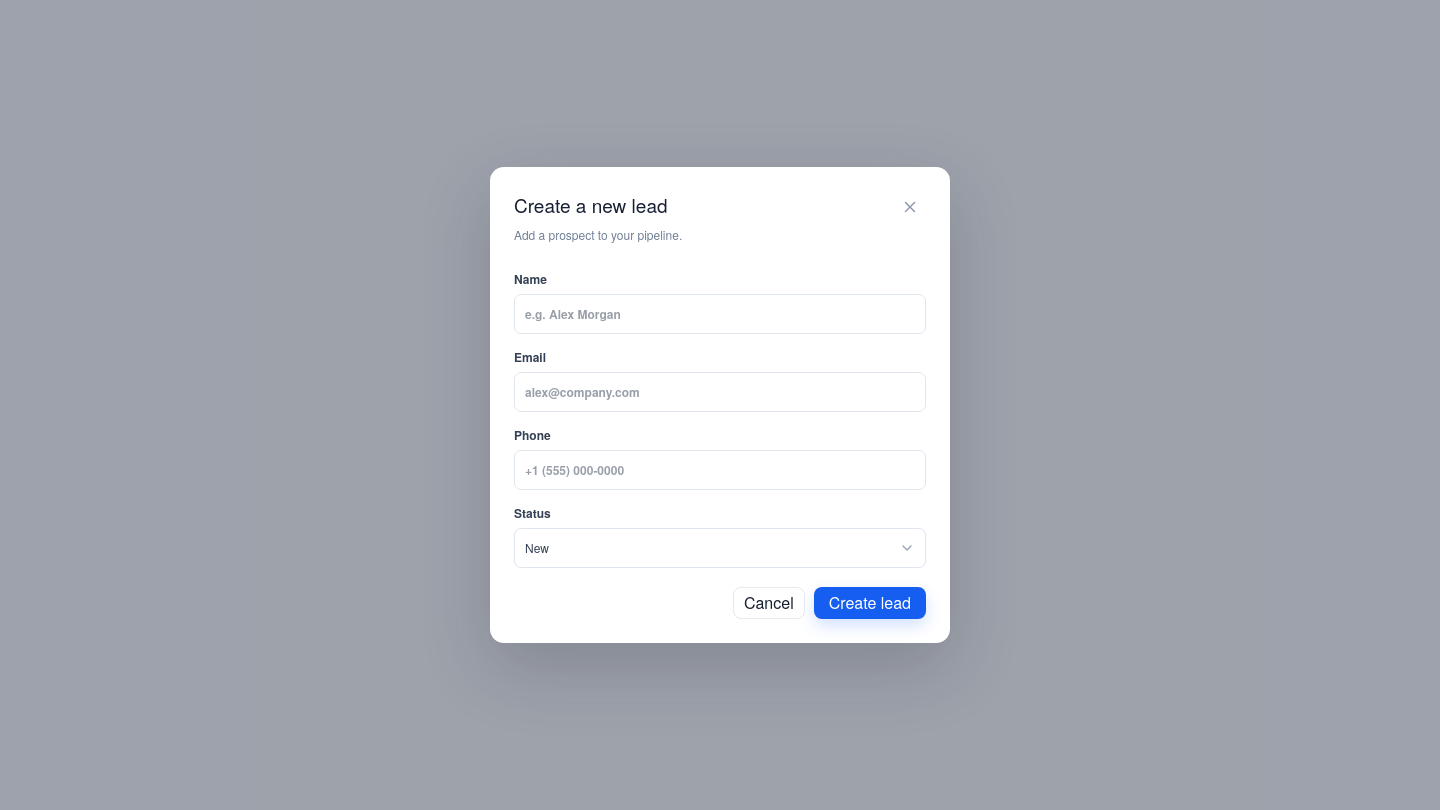
LeadForm › rejects a phone number with too few digits
Type "555010" into the field with placeholder "+1 (555) 000-0000" at (720, 470), box [514,450,926,490]
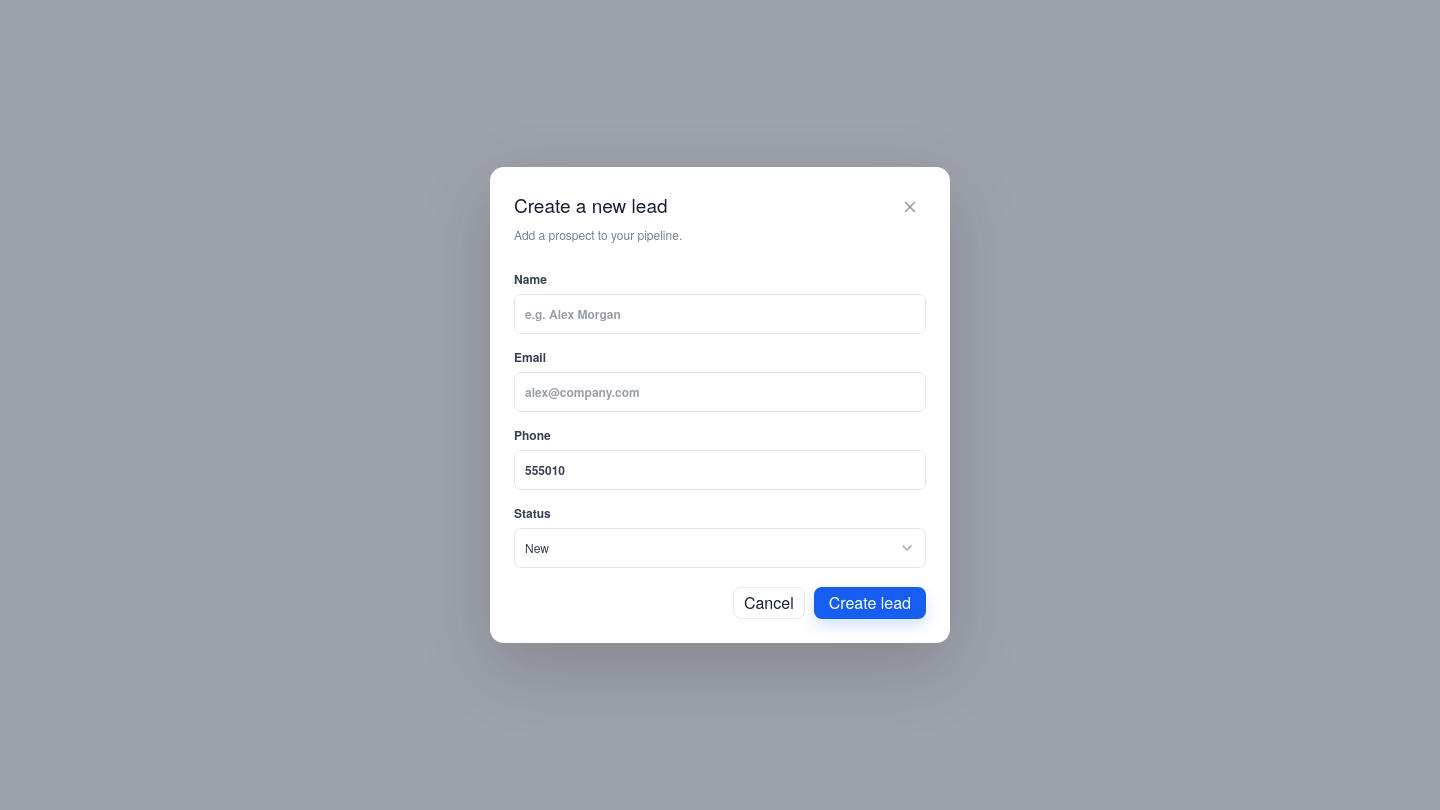
Click the button "Create lead" at (870, 603), box [814,587,926,619]
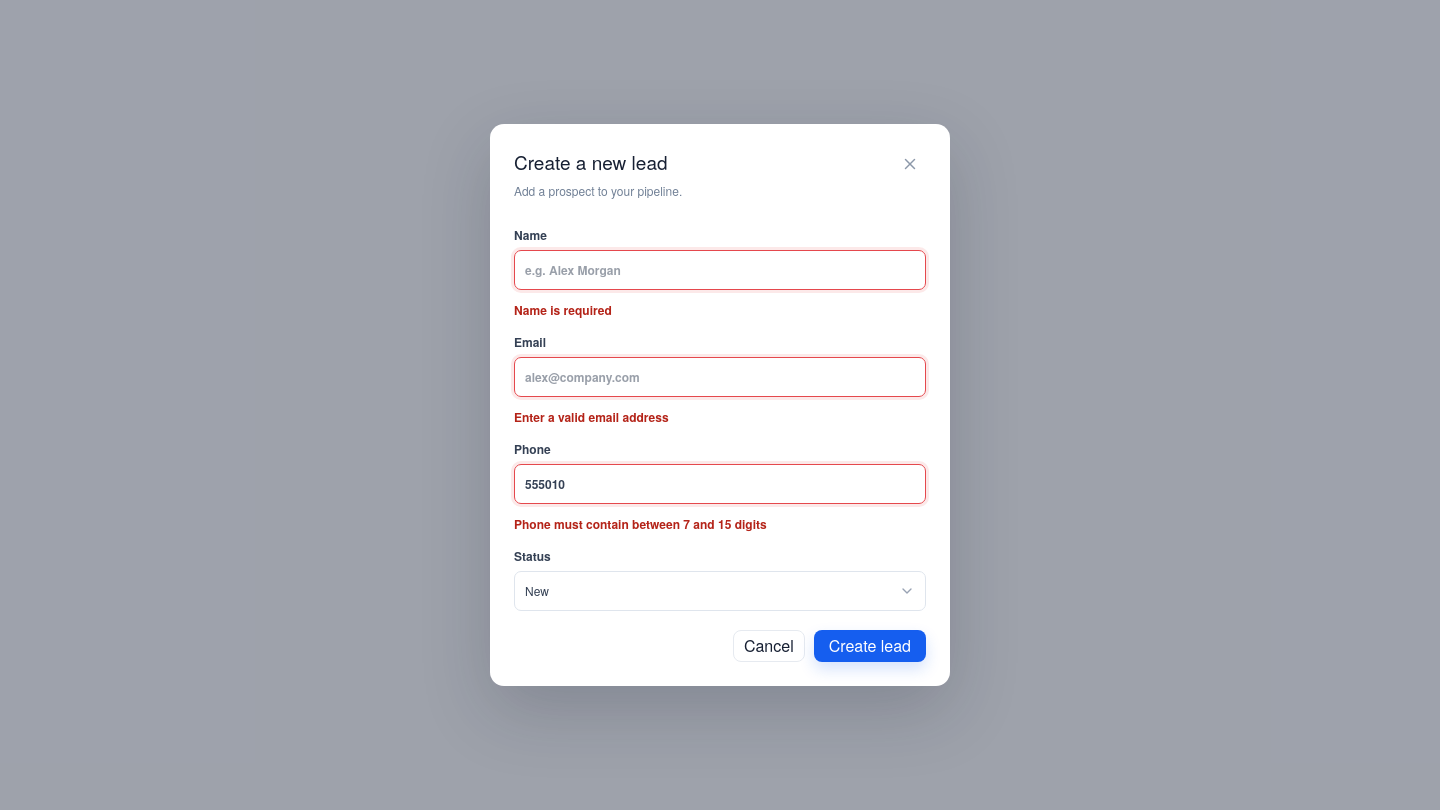
Expected: the text "Phone must contain between 7 and 15 digits" is shown, [514,515,767,533]
